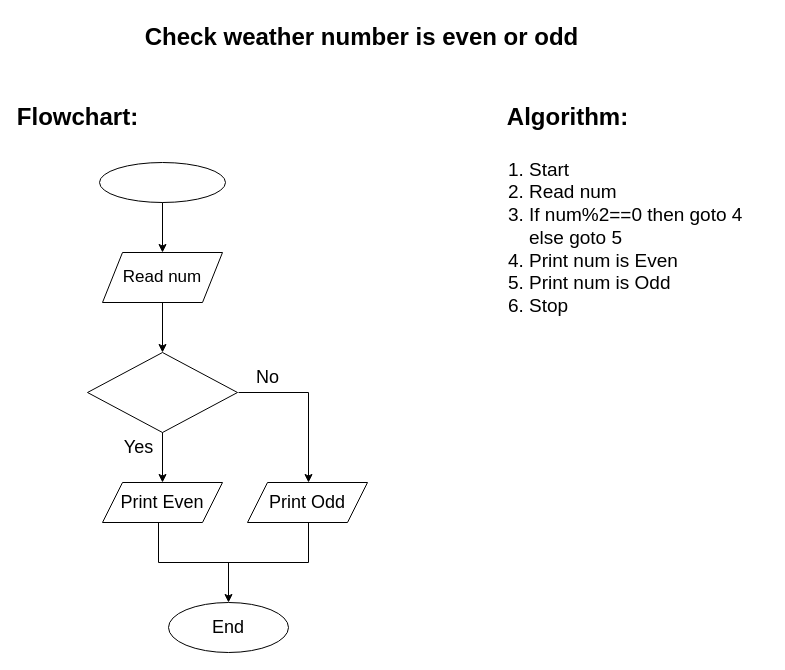
Image size: 785x670. Some labels were removed from this diagram. The centre of each missing label's shape, as x and y in pixels:
"num%2==0" belongs at [162,392].
"Start" belongs at [162,182].
